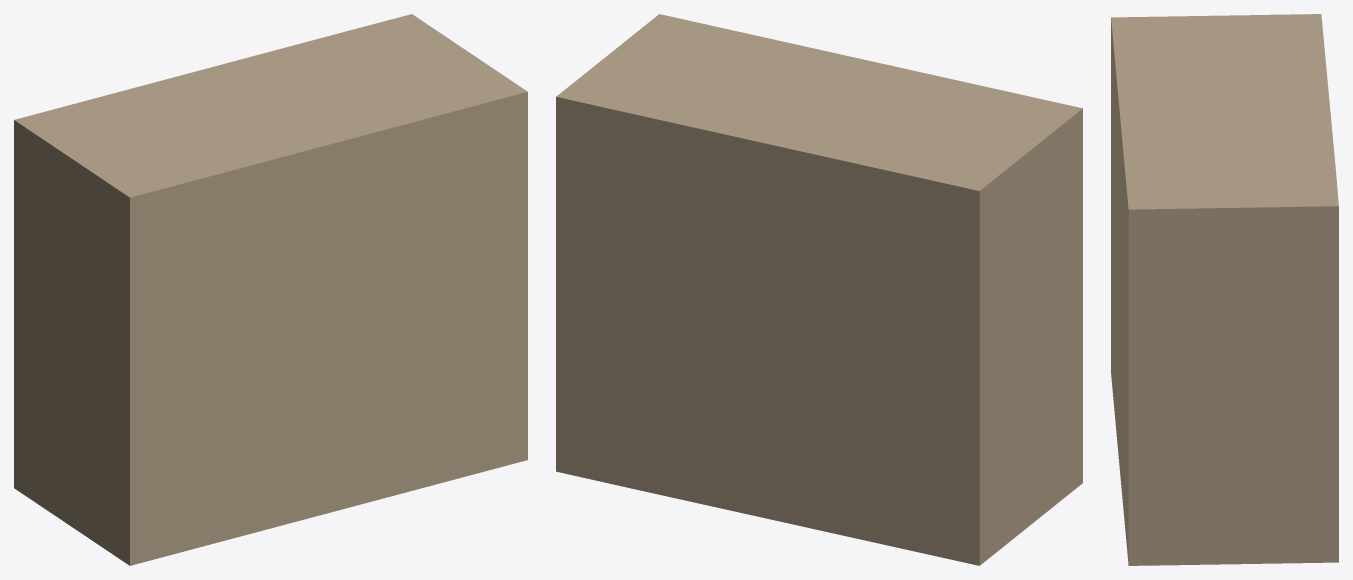
The model's file is bld_106415406.dae.
The picture shows the model from 3 angles, left to right: view 1: azimuth 30°, elevation 25°; view 2: azimuth 150°, elevation 25°; view 3: azimuth 270°, elevation 25°; orthographic projection. The views are drawn at different scales.
Visible parts, largest first — view 1: bld_106415406; view 2: bld_106415406; view 3: bld_106415406.
Part boxes in pixels (<box>): bld_106415406: <box>14,14,527,565</box>; bld_106415406: <box>556,14,1082,565</box>; bld_106415406: <box>1111,14,1338,565</box>.
Size of the model in its own units: 9.42 by 4.64 by 8.
